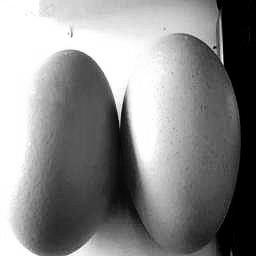telur: (120, 31, 245, 256), (0, 46, 123, 256)
